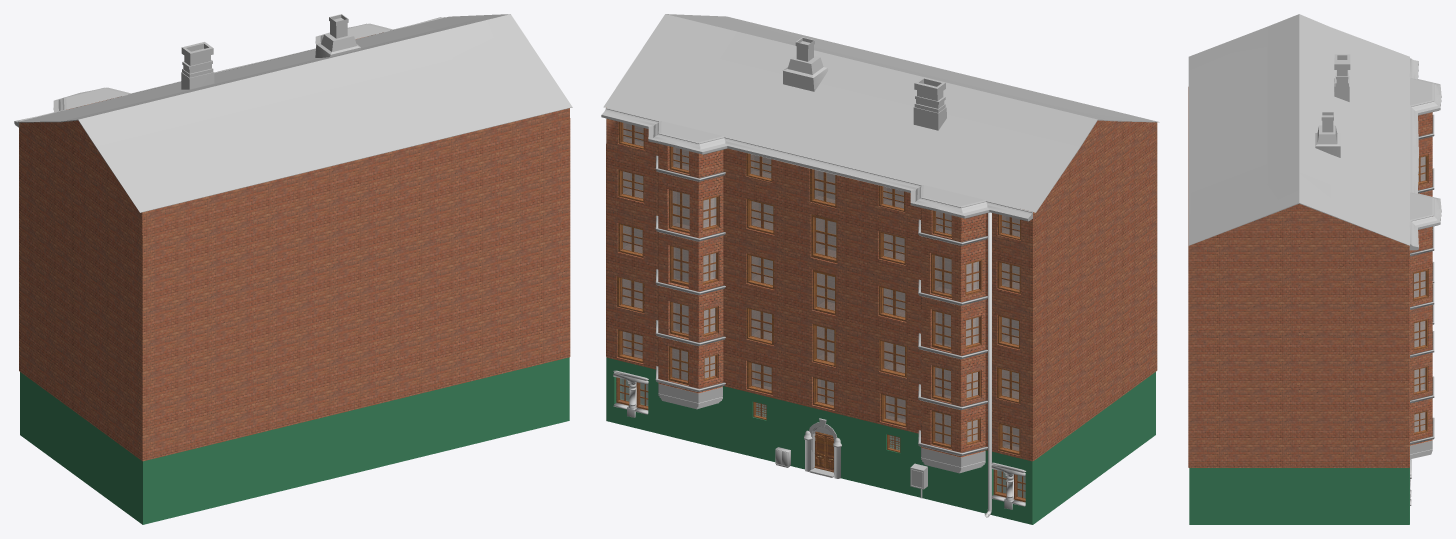
Rendered from Apartment5.fbx.
The picture shows the model from 3 angles, left to right: view 1: azimuth 30°, elevation 25°; view 2: azimuth 150°, elevation 25°; view 3: azimuth 270°, elevation 25°; orthographic projection. The views are drawn at different scales.
Parts seen in each view (by area): view 1: Apartment5, FullHouse.153, Apartment5.003, Apartment5.007, Apartment5.005, Apartment5.008, Apartment5.004, Apartment5.006, Apartment5.009, 5th_L_C.014; view 2: Apartment5, FullHouse.153, Apartment5.003, Apartment5.007, Apartment5.005, Apartment5.012, 5th_L_C.014, Apartment5.008, Apartment5.009, Apartment5.004, Apartment5.006, Apartment5.011 (+33 smaller); view 3: Apartment5, FullHouse.153, Apartment5.009, 5th_L_C.014, Apartment5.012, FullHouse.335, FullHouse.336, FullHouse.339, Apartment5.011, FullHouse.303, FullHouse.340.
Part boxes in pixels (box(x1,y1,x2,y2)): Apartment5: box(19, 32, 570, 461); FullHouse.153: box(14, 14, 572, 212); Apartment5.003: box(20, 372, 190, 524); Apartment5.007: box(382, 386, 452, 466); Apartment5.005: box(254, 417, 323, 497); Apartment5.008: box(452, 370, 517, 449); Apartment5.004: box(190, 434, 254, 513); Apartment5.006: box(323, 403, 382, 480); Apartment5.009: box(517, 357, 569, 433); 5th_L_C.014: box(181, 14, 360, 89); Apartment5: box(606, 107, 1157, 461); FullHouse.153: box(601, 14, 1159, 221); Apartment5.003: box(985, 372, 1155, 524); Apartment5.007: box(723, 386, 792, 466); Apartment5.005: box(851, 417, 921, 497); Apartment5.012: box(655, 155, 987, 456); 5th_L_C.014: box(783, 37, 946, 130); Apartment5.008: box(659, 386, 723, 449); Apartment5.009: box(606, 357, 658, 433); Apartment5.004: box(921, 450, 985, 513); Apartment5.006: box(792, 403, 851, 480); Apartment5.011: box(658, 383, 985, 473); Apartment5: box(1188, 87, 1432, 467); FullHouse.153: box(1188, 14, 1441, 250); Apartment5.009: box(1189, 468, 1409, 524); 5th_L_C.014: box(1315, 54, 1350, 157); Apartment5.012: box(1410, 114, 1434, 444); FullHouse.335: box(1413, 269, 1428, 301); FullHouse.336: box(1413, 319, 1427, 350); FullHouse.339: box(1413, 366, 1427, 395); Apartment5.011: box(1410, 440, 1432, 459); FullHouse.303: box(1418, 154, 1428, 185); FullHouse.340: box(1414, 410, 1427, 435).
Size of the model in its own units: 28.35 by 24.03 by 16.06.
